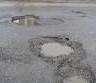pothole: (27, 34, 96, 83), (10, 13, 39, 28)
